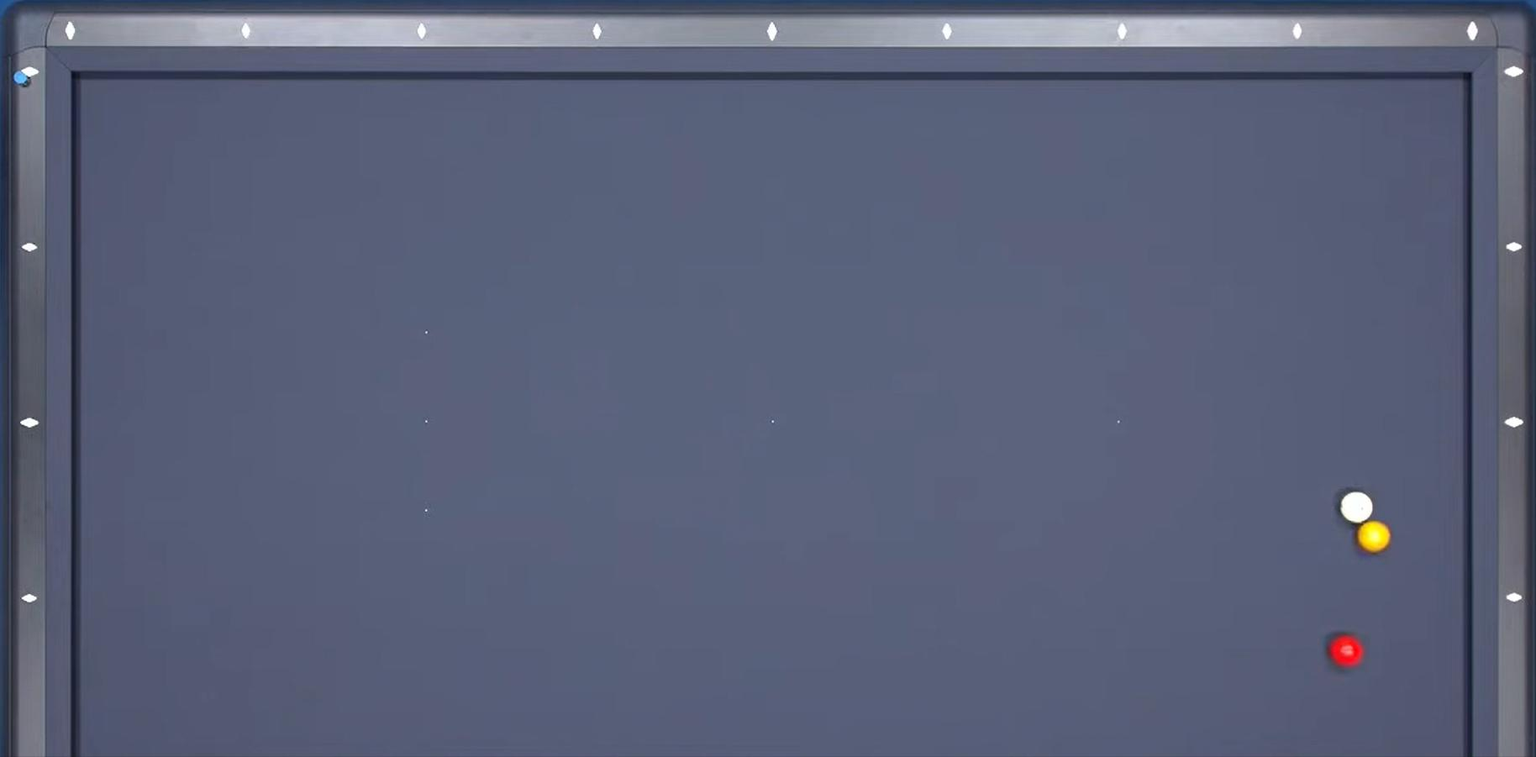red ball: (1327, 633, 1367, 670)
white ball: (1335, 487, 1379, 524)
yellow ball: (1354, 517, 1393, 557)
